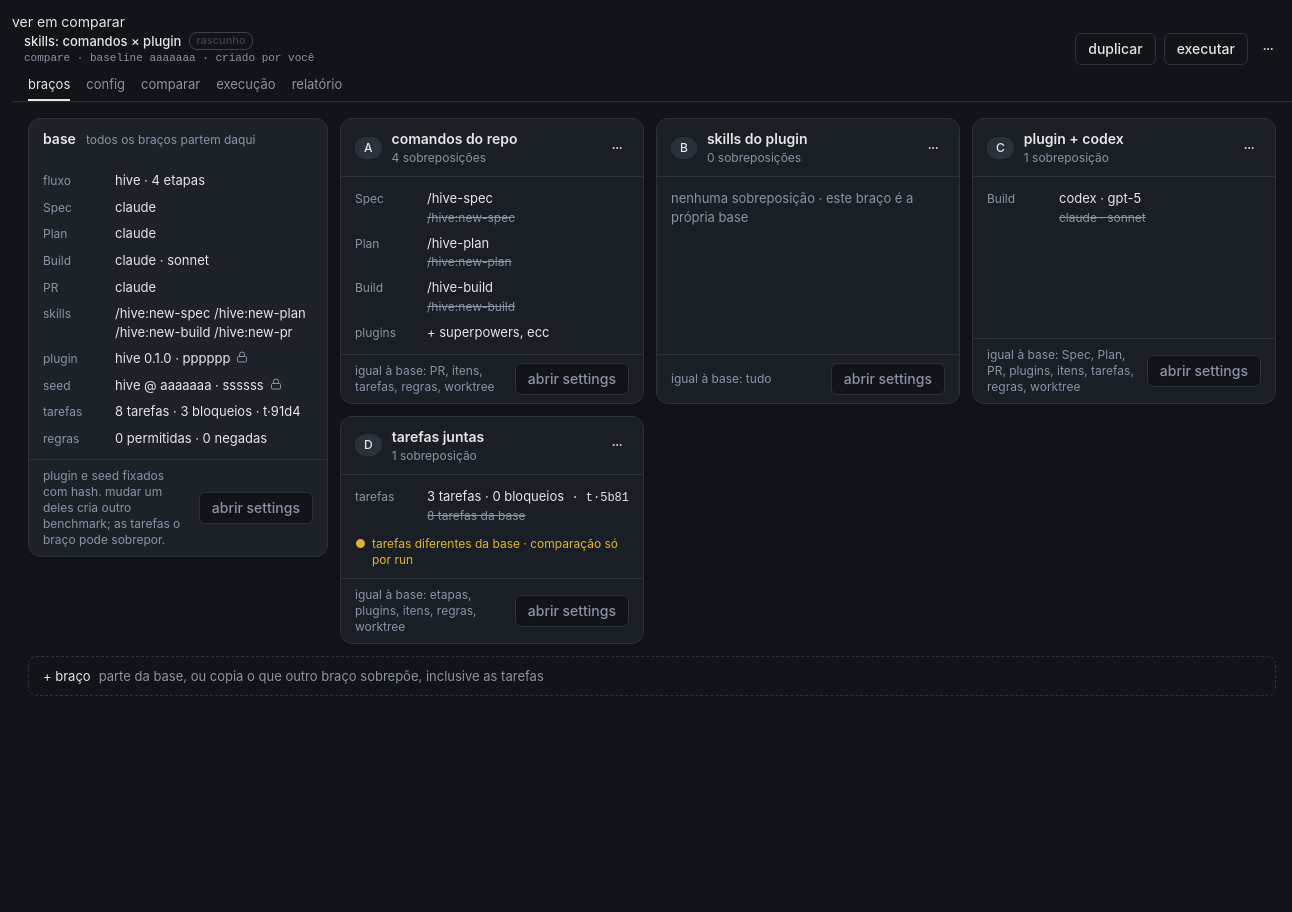
comparar draws the screen: config, base and one column per arm; só diferenças on shows the six differing rows and counts the nine hidden (#464)
Click the button "comparar" at (171, 88), box left=141, top=75, right=200, bottom=101
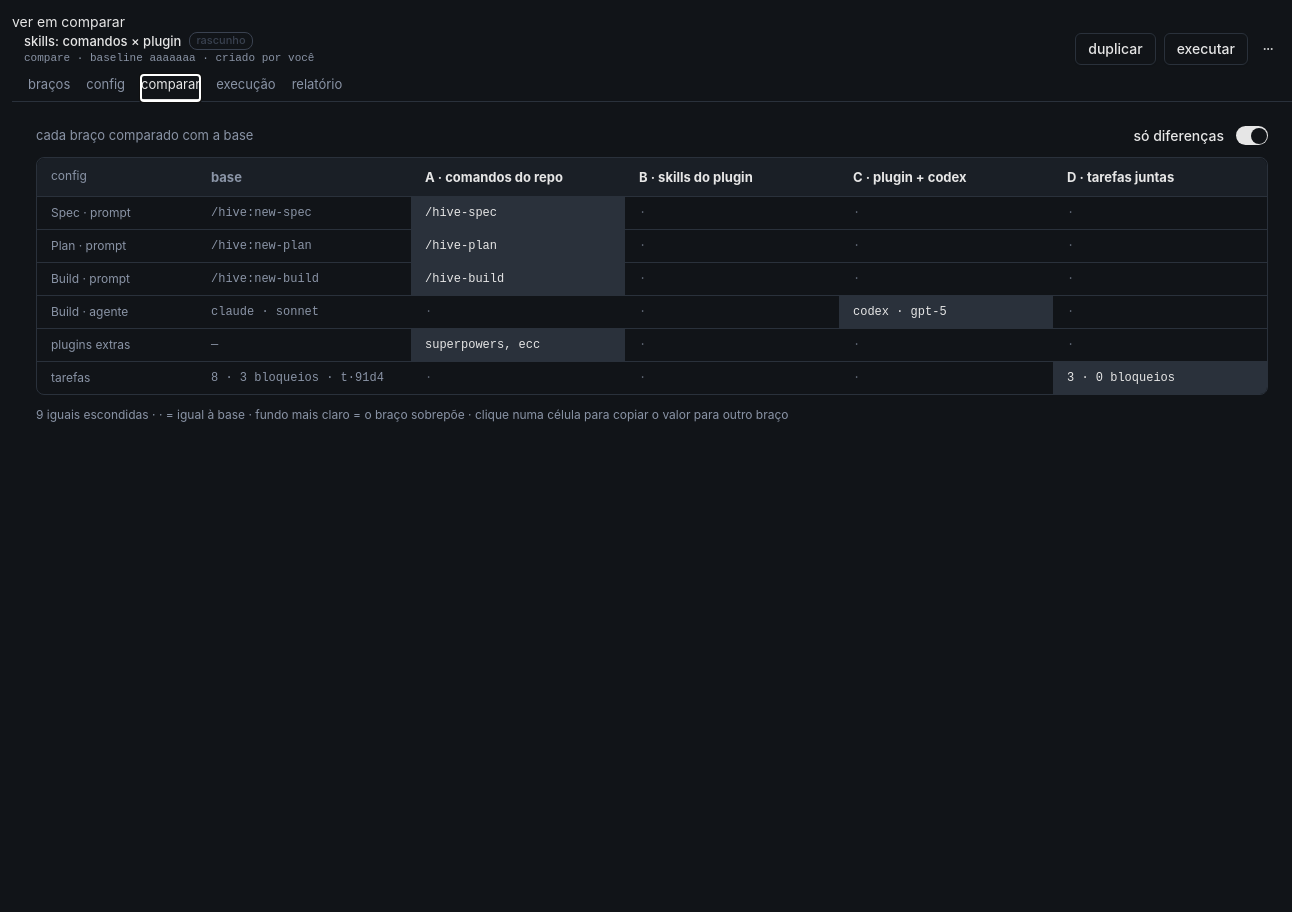
expect the text "cada braço comparado com a base" is shown: met, box left=36, top=126, right=254, bottom=145
expect the column headings read "config", "base", "A · comandos do repo", "B · skills do plugin", "C · plugin + codex", "D · tarefas juntas", in this order: met, box left=37, top=158, right=197, bottom=196; left=197, top=158, right=411, bottom=196; left=411, top=158, right=625, bottom=196; left=625, top=158, right=839, bottom=196; left=839, top=158, right=1053, bottom=196; left=1053, top=158, right=1267, bottom=196
expect the switch named "só diferenças" is checked: met, box left=1236, top=126, right=1268, bottom=145
